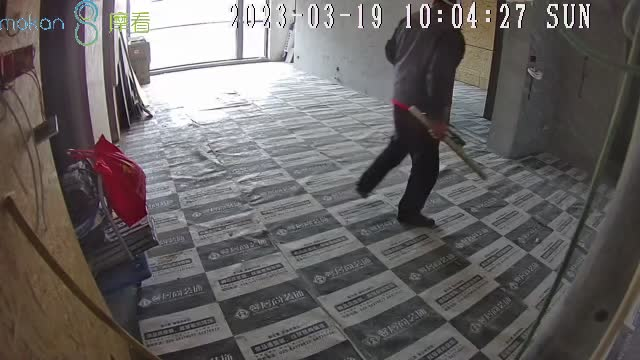people: (356, 1, 466, 227)
window: (118, 1, 269, 70)
